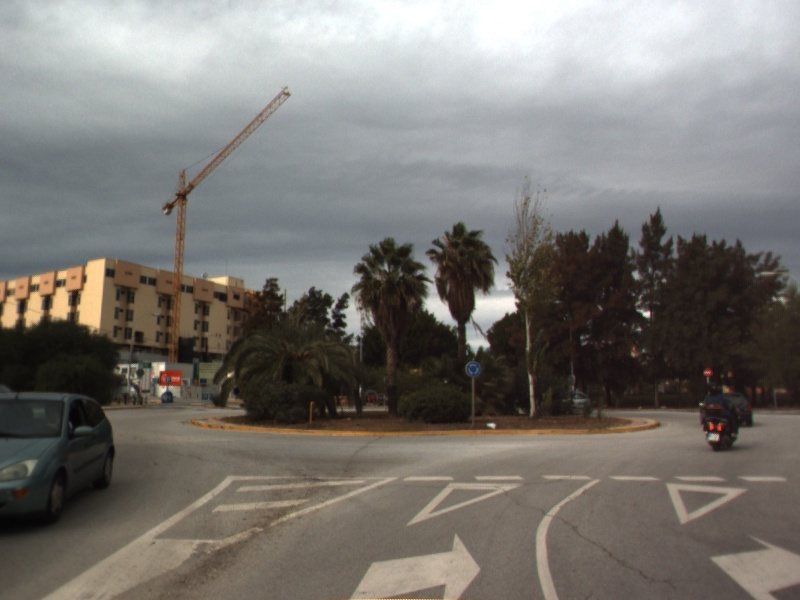RIGHT: (346, 528, 484, 600), (705, 528, 800, 600)
